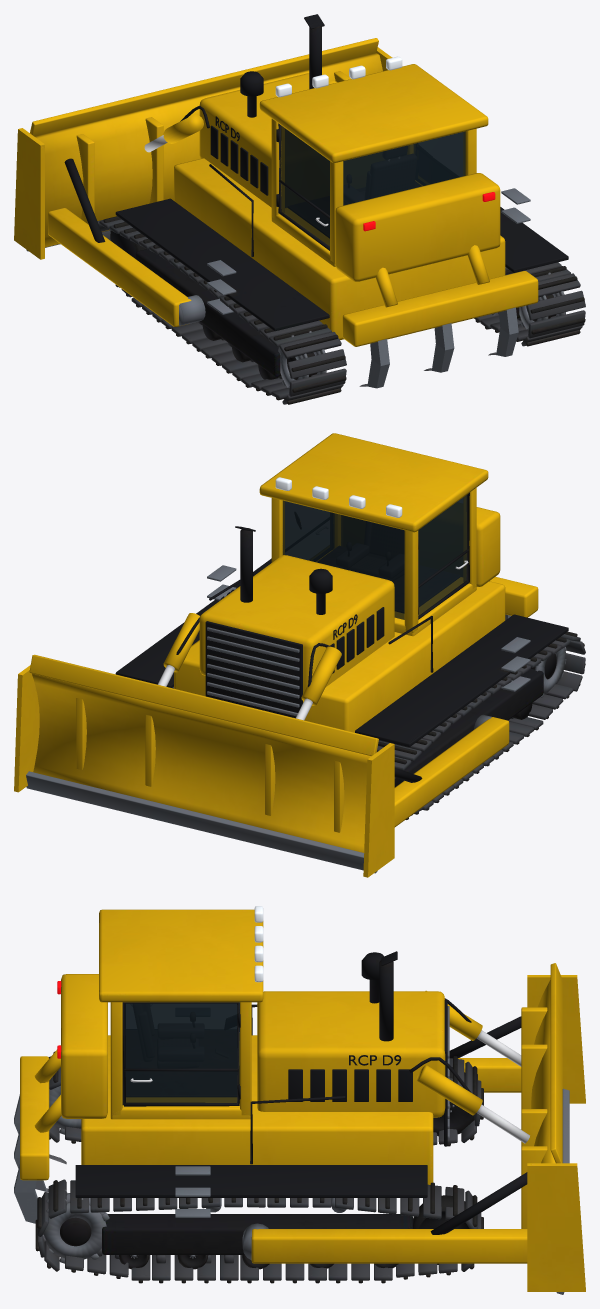
Rendered from Bulldozer.glb.
3 renders of one model, top to bottom at view 1: azimuth 30°, elevation 25°; view 2: azimuth 150°, elevation 25°; view 3: azimuth 270°, elevation 25°, orthographic. The views are drawn at different scales.
Visible parts, largest first — view 1: Bulldozer_Body, Bulldozer_Trim2, Bulldozer_Trim, Bulldozer_Glass, Bulldozer_Trim3, Bulldozer_Interior, Bulldozer_Lights; view 2: Bulldozer_Body, Bulldozer_Trim2, Bulldozer_Trim3, Bulldozer_Glass, Bulldozer_Trim, Bulldozer_Interior, Bulldozer_Lights; view 3: Bulldozer_Body, Bulldozer_Trim3, Bulldozer_Trim, Bulldozer_Glass, Bulldozer_Trim2, Bulldozer_Interior, Bulldozer_Lights.
Part boxes in pixels (x1=…): Bulldozer_Body: x1=14, y1=38, x2=538, y2=376; Bulldozer_Trim2: x1=110, y1=14, x2=530, y2=379; Bulldozer_Trim: x1=97, y1=116, x2=585, y2=404; Bulldozer_Glass: x1=280, y1=126, x2=465, y2=246; Bulldozer_Trim3: x1=26, y1=81, x2=568, y2=388; Bulldozer_Interior: x1=288, y1=146, x2=420, y2=237; Bulldozer_Lights: x1=275, y1=56, x2=495, y2=231; Bulldozer_Body: x1=14, y1=433, x2=543, y2=877; Bulldozer_Trim2: x1=205, y1=526, x2=568, y2=787; Bulldozer_Trim3: x1=26, y1=492, x2=510, y2=873; Bulldozer_Glass: x1=282, y1=495, x2=466, y2=619; Bulldozer_Trim: x1=172, y1=585, x2=585, y2=819; Bulldozer_Interior: x1=294, y1=512, x2=460, y2=612; Bulldozer_Lights: x1=275, y1=477, x2=402, y2=517; Bulldozer_Body: x1=20, y1=909, x2=585, y2=1291; Bulldozer_Trim3: x1=14, y1=990, x2=569, y2=1294; Bulldozer_Trim: x1=35, y1=1051, x2=483, y2=1283; Bulldozer_Glass: x1=125, y1=1002, x2=239, y2=1103; Bulldozer_Trim2: x1=119, y1=951, x2=474, y2=1269; Bulldozer_Interior: x1=125, y1=1004, x2=237, y2=1096; Bulldozer_Lights: x1=57, y1=906, x2=263, y2=1058.
Bounding box in the file's own units: 15.4 × 10.11 × 19.5.
8 materials, 5 textured.
